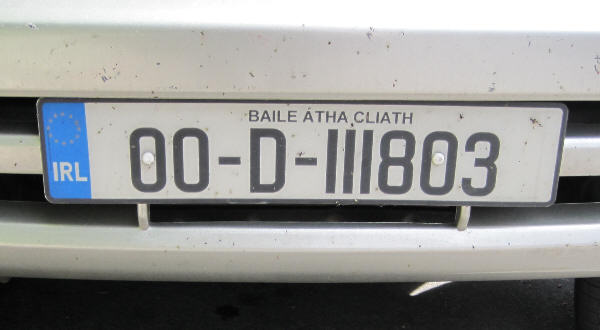license_plate: (37, 98, 568, 208)
